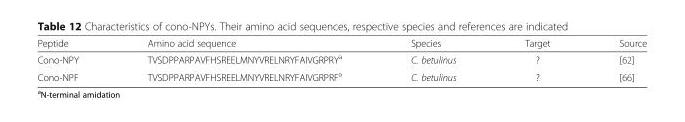table: (36, 37, 646, 82)
table column: (112, 37, 375, 82), (375, 37, 489, 82), (489, 37, 584, 82), (36, 37, 112, 82), (584, 37, 646, 82)
table column header: (36, 37, 646, 50)
table row: (36, 50, 646, 67), (36, 67, 646, 82), (36, 37, 646, 50)
